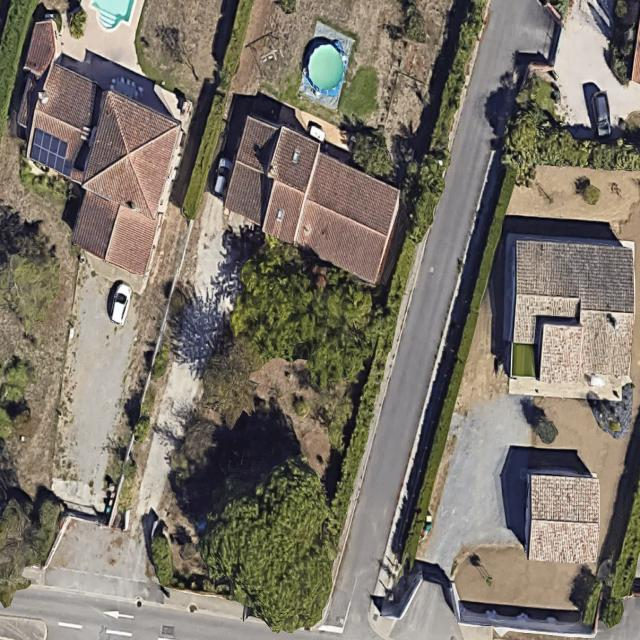maison: (0, 14, 232, 290), (206, 109, 422, 286), (507, 237, 636, 384), (523, 474, 601, 564)
